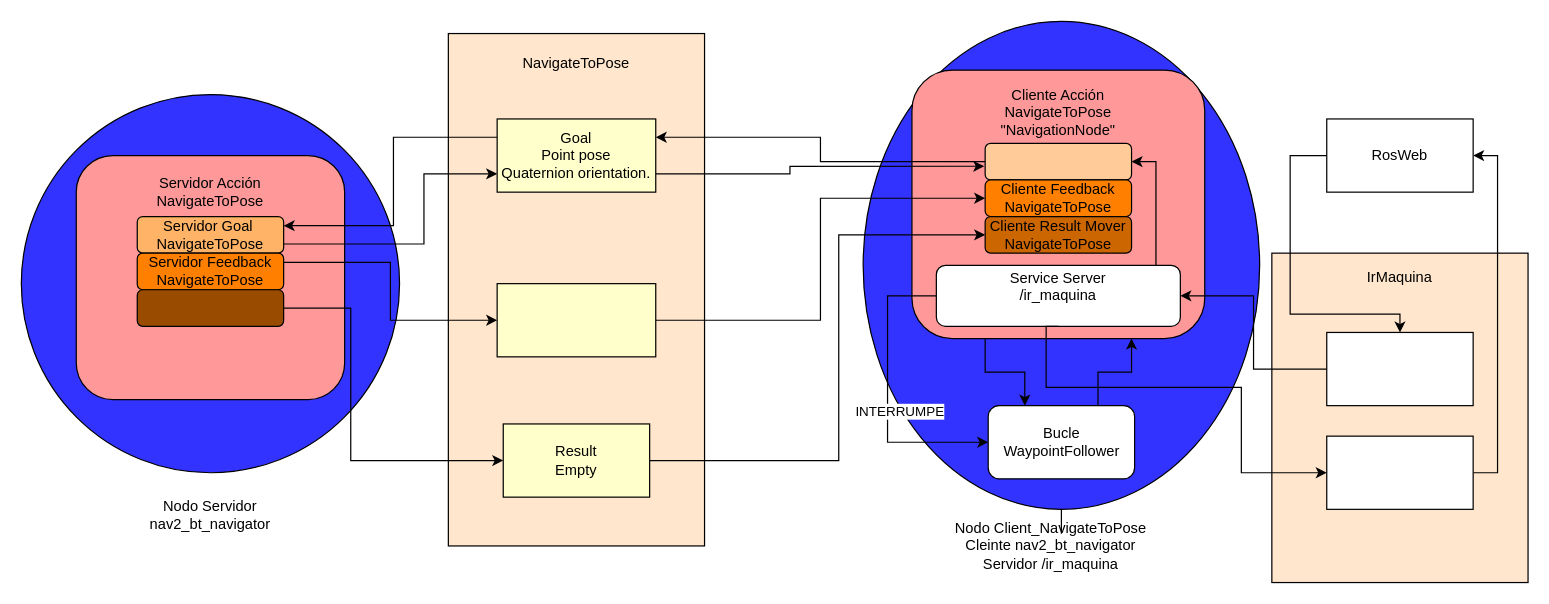
Some shapes in this 1549 by 604 pixel diagram are drawn without their labels. The shapes that lost their labels are listed below. From the top down, each one's centre as x and y in pixels, then its label:
At (x=1058, y=161): "Cliente Goal NavigateToPose".
At (x=210, y=307): "Servidor Result NavigateToPose".
At (x=576, y=319): "Feedback Point position Quaternion orientation".
At (x=1399, y=368): "IrMaquina Request float64 x float64 y".
At (x=1399, y=472): "IrMaquina Response string res int64 codigo".
